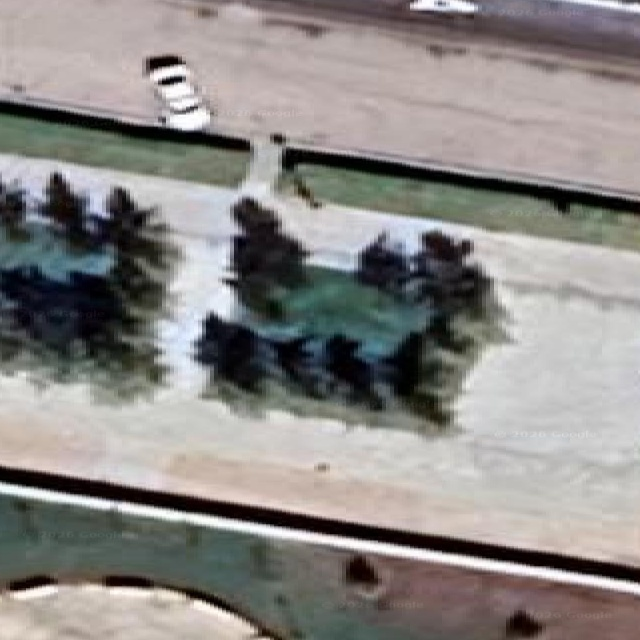car: (145, 55, 210, 130), (409, 0, 477, 15)
